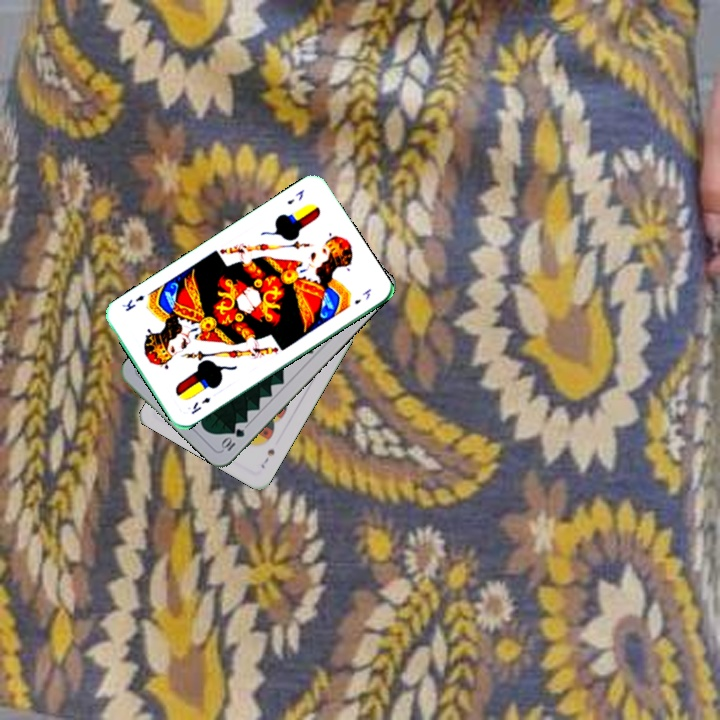EK: (187, 393, 213, 417), (283, 186, 307, 207)
G10: (216, 424, 247, 454)
S7: (257, 445, 277, 471)
